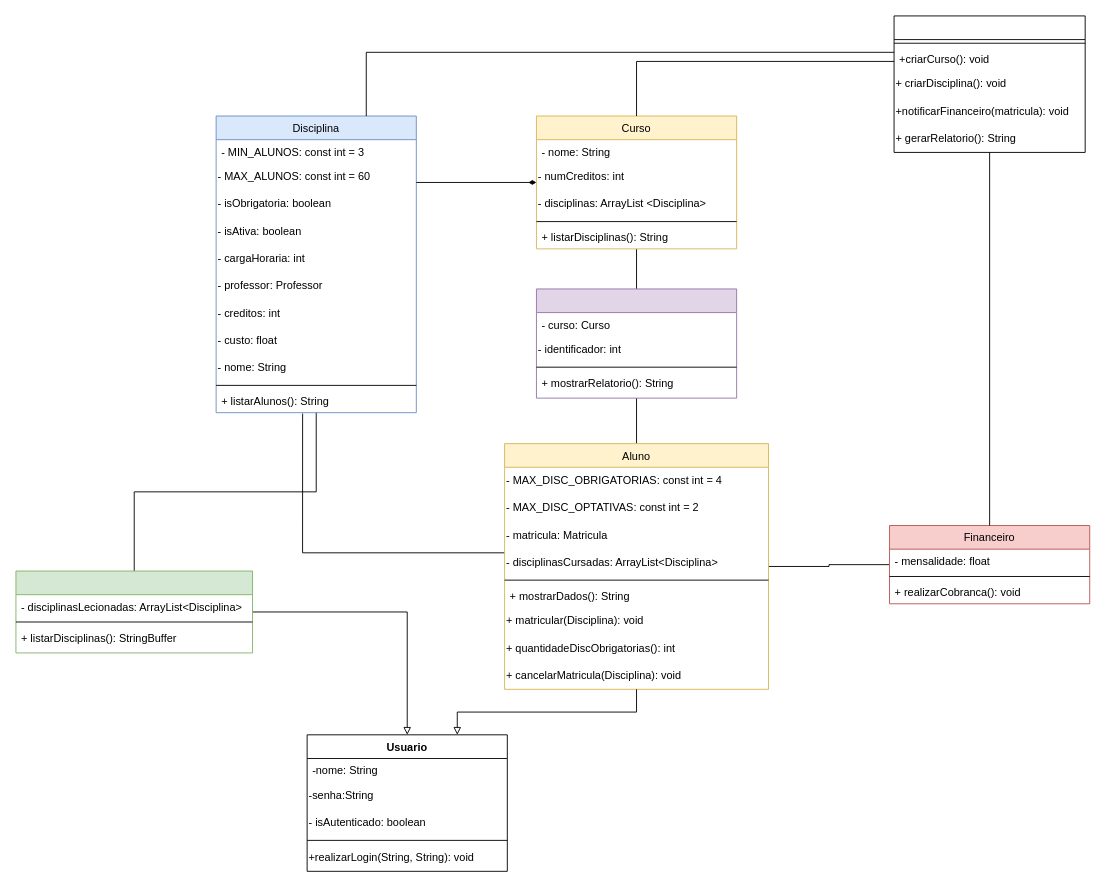
Image size: 1106x887. Some labels were removed from this diagram. The shapes that lost their labels are listed below. From the top down, each one's box as (x1, y1, x2, y2) in pixels, then its label:
(893, 15, 1085, 152): Secretaria
(536, 288, 737, 398): Matricula
(15, 570, 253, 653): Professor
